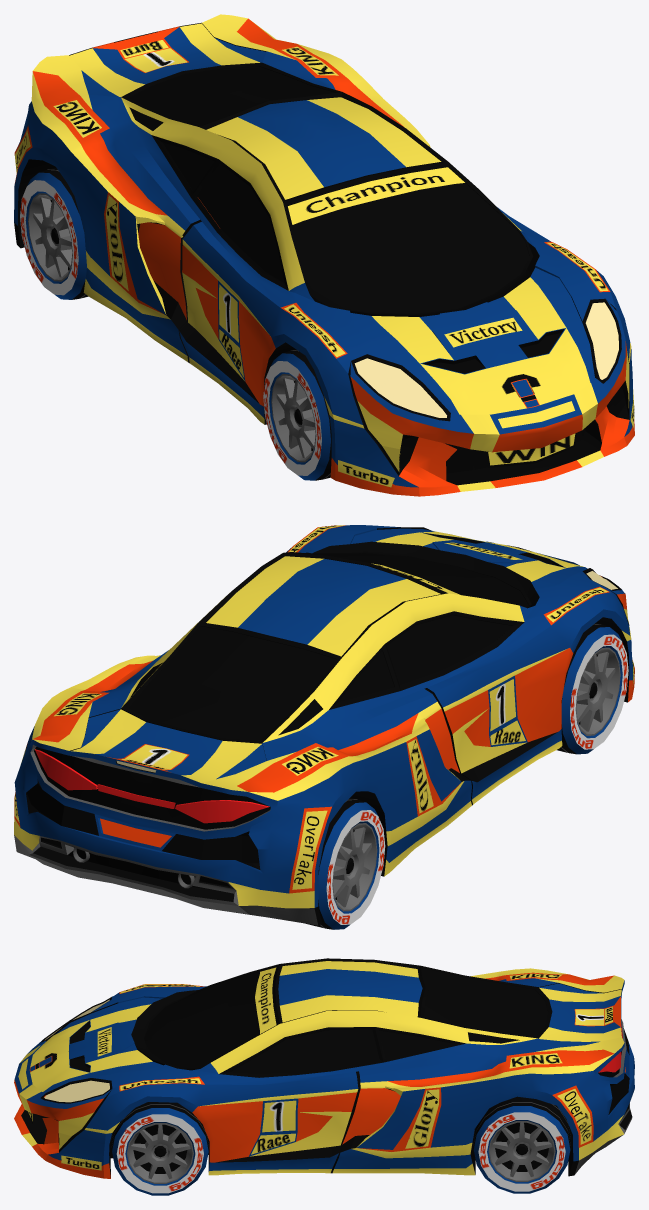
Rendered from Luxury Grand Tourer.fbx.
3 renders of one model, top to bottom at view 1: azimuth 30°, elevation 25°; view 2: azimuth 150°, elevation 25°; view 3: azimuth 270°, elevation 25°, orthographic. The views are drawn at different scales.
Parts seen in each view (by area): view 1: Luxury Grand Tourer_LOD0, FRONT RIGHT WHEEL, BACK RIGHT WHEEL; view 2: Luxury Grand Tourer_LOD0, BACK RIGHT WHEEL, FRONT RIGHT WHEEL; view 3: Luxury Grand Tourer_LOD0, BACK LEFT WHEEL, FRONT LEFT WHEEL.
Part boxes in pixels (box(x1,y1,x2,y2)): Luxury Grand Tourer_LOD0: box(14, 14, 634, 496); FRONT RIGHT WHEEL: box(263, 349, 331, 480); BACK RIGHT WHEEL: box(20, 167, 88, 299); Luxury Grand Tourer_LOD0: box(14, 525, 634, 925); BACK RIGHT WHEEL: box(306, 797, 385, 929); FRONT RIGHT WHEEL: box(557, 623, 628, 754); Luxury Grand Tourer_LOD0: box(14, 958, 634, 1178); BACK LEFT WHEEL: box(473, 1096, 570, 1193); FRONT LEFT WHEEL: box(111, 1102, 209, 1195).
Size of what is drawn, in the model's own units: 2 by 1.34 by 4.7.
Materials: 3 (1 with a texture image).
